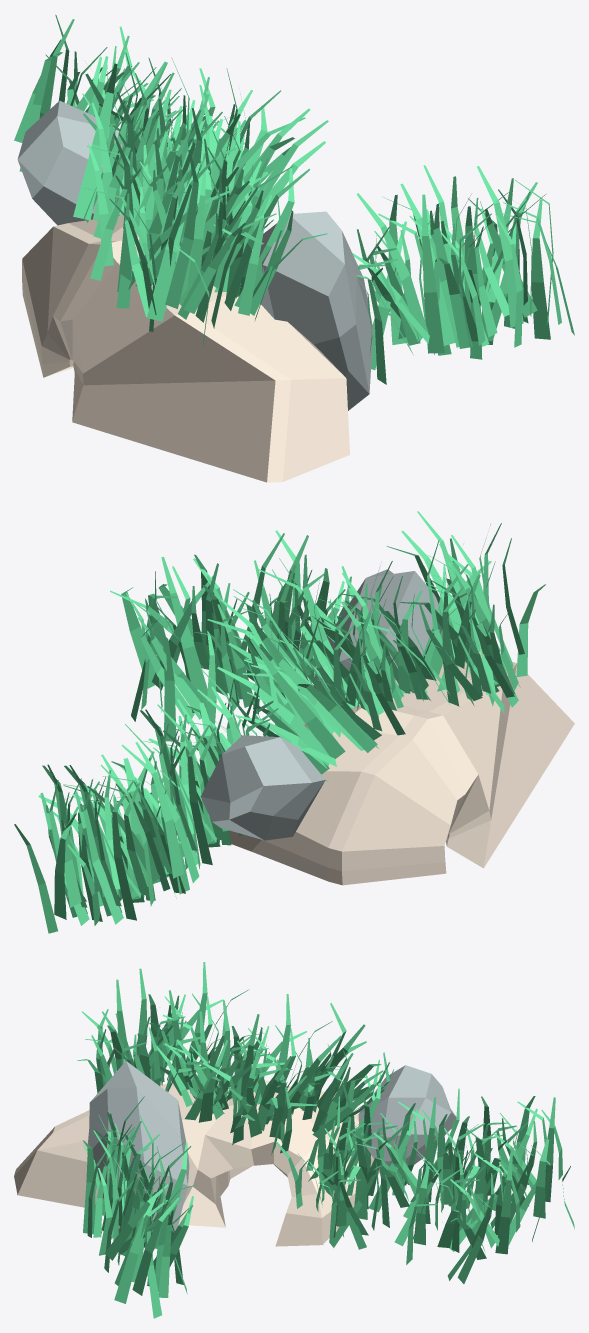
Rendered from 042720map2shadowCasters.gltf.
3 renders of one model, top to bottom at view 1: azimuth 30°, elevation 25°; view 2: azimuth 150°, elevation 25°; view 3: azimuth 270°, elevation 25°, orthographic. The views are drawn at different scales.
Parts seen in each view (by area): view 1: Cube.026, Cube.022, Cube.027, Plane.138, Plane.235, Plane.179, Plane.110, Plane.186, Plane.147, Plane.109, Plane.160, Plane.152 (+30 smaller); view 2: Cube.026, Cube.027, Cube.022, Plane.240, Plane.088, Plane.594, Plane.233, Plane.058, Plane.006, Plane.002, Plane.111, Plane.237 (+35 smaller); view 3: Cube.026, Cube.022, Cube.027, Plane.113, Plane.084, Plane.112, Plane.075, Plane.100, Plane.144, Plane.050, Plane.114, Plane.002 (+22 smaller).
Part boxes in pixels (bbox=[...]): Cube.026: bbox=[22, 215, 349, 482]; Cube.022: bbox=[259, 211, 373, 410]; Cube.027: bbox=[17, 100, 122, 225]; Plane.138: bbox=[422, 194, 444, 353]; Plane.235: bbox=[73, 63, 117, 220]; Plane.179: bbox=[165, 150, 198, 308]; Plane.110: bbox=[531, 199, 550, 339]; Plane.186: bbox=[147, 163, 200, 321]; Plane.147: bbox=[356, 193, 428, 341]; Plane.109: bbox=[477, 166, 523, 327]; Plane.160: bbox=[224, 168, 309, 310]; Plane.152: bbox=[238, 194, 272, 315]; Cube.026: bbox=[218, 649, 574, 885]; Cube.027: bbox=[200, 735, 325, 840]; Cube.022: bbox=[313, 569, 442, 693]; Plane.240: bbox=[250, 638, 345, 758]; Plane.088: bbox=[161, 557, 207, 703]; Plane.594: bbox=[135, 742, 184, 878]; Plane.233: bbox=[217, 666, 329, 768]; Plane.058: bbox=[188, 725, 212, 865]; Plane.006: bbox=[112, 780, 136, 920]; Plane.002: bbox=[83, 779, 123, 924]; Plane.111: bbox=[151, 624, 176, 741]; Plane.237: bbox=[297, 684, 377, 752]; Cube.026: bbox=[14, 1079, 379, 1246]; Cube.022: bbox=[87, 1061, 189, 1247]; Cube.027: bbox=[358, 1065, 456, 1166]; Plane.113: bbox=[114, 1199, 155, 1303]; Plane.084: bbox=[495, 1149, 512, 1254]; Plane.112: bbox=[132, 1197, 179, 1295]; Plane.075: bbox=[533, 1139, 549, 1218]; Plane.100: bbox=[105, 1184, 168, 1260]; Plane.144: bbox=[82, 1140, 95, 1234]; Plane.050: bbox=[413, 1166, 429, 1245]; Plane.114: bbox=[158, 1210, 173, 1297]; Plane.002: bbox=[545, 1097, 555, 1202].
Bounding box in the file's own units: 51.4 × 35.3 × 76.27.
